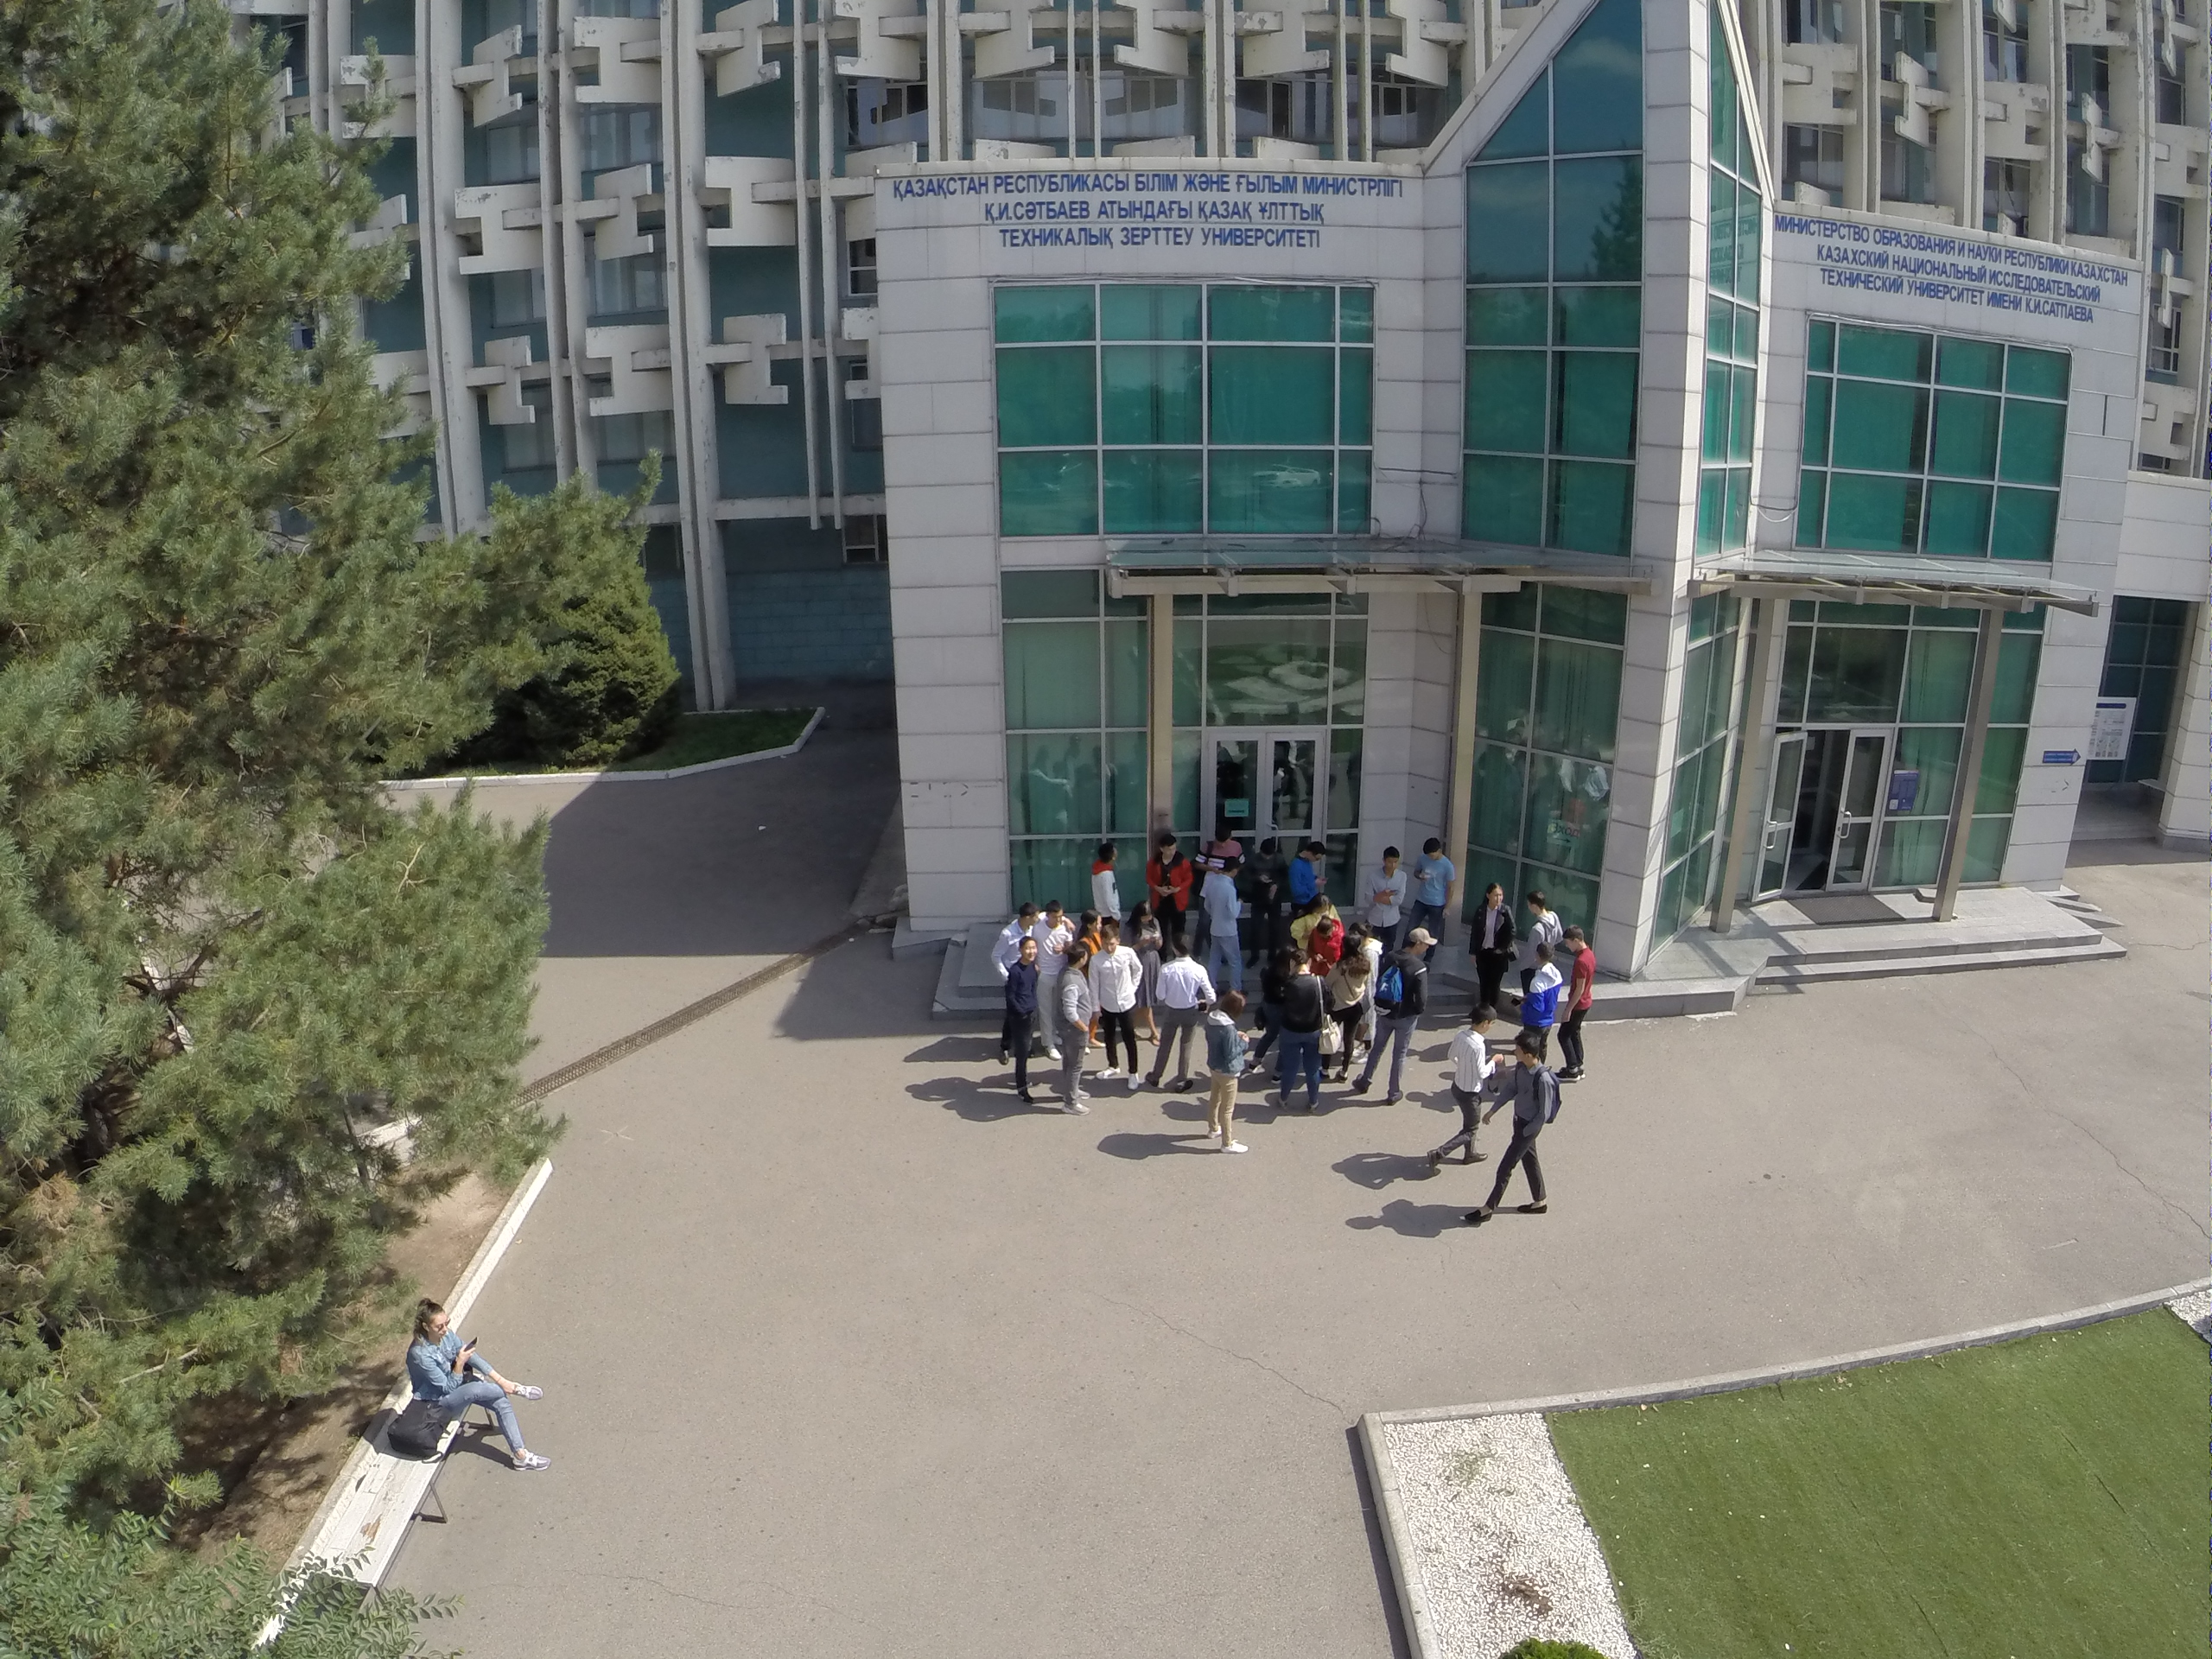person: (364, 1284, 554, 1492), (1478, 1027, 1573, 1236), (1355, 918, 1440, 1111), (1434, 995, 1503, 1177), (1191, 988, 1259, 1162), (1094, 918, 1148, 1098), (1150, 933, 1207, 1096), (1278, 948, 1333, 1118), (1320, 932, 1378, 1085), (1050, 944, 1092, 1121), (1002, 936, 1041, 1109), (1118, 898, 1164, 1050), (1141, 830, 1192, 956), (1205, 853, 1245, 1005), (1558, 920, 1594, 1088), (1468, 877, 1512, 1016), (1245, 832, 1287, 975), (1409, 830, 1458, 938), (1522, 938, 1567, 1052), (1042, 898, 1070, 1071), (1365, 841, 1407, 942), (1078, 835, 1122, 925), (1522, 896, 1567, 981), (1296, 836, 1333, 910), (998, 902, 1038, 964), (1072, 906, 1100, 950)
